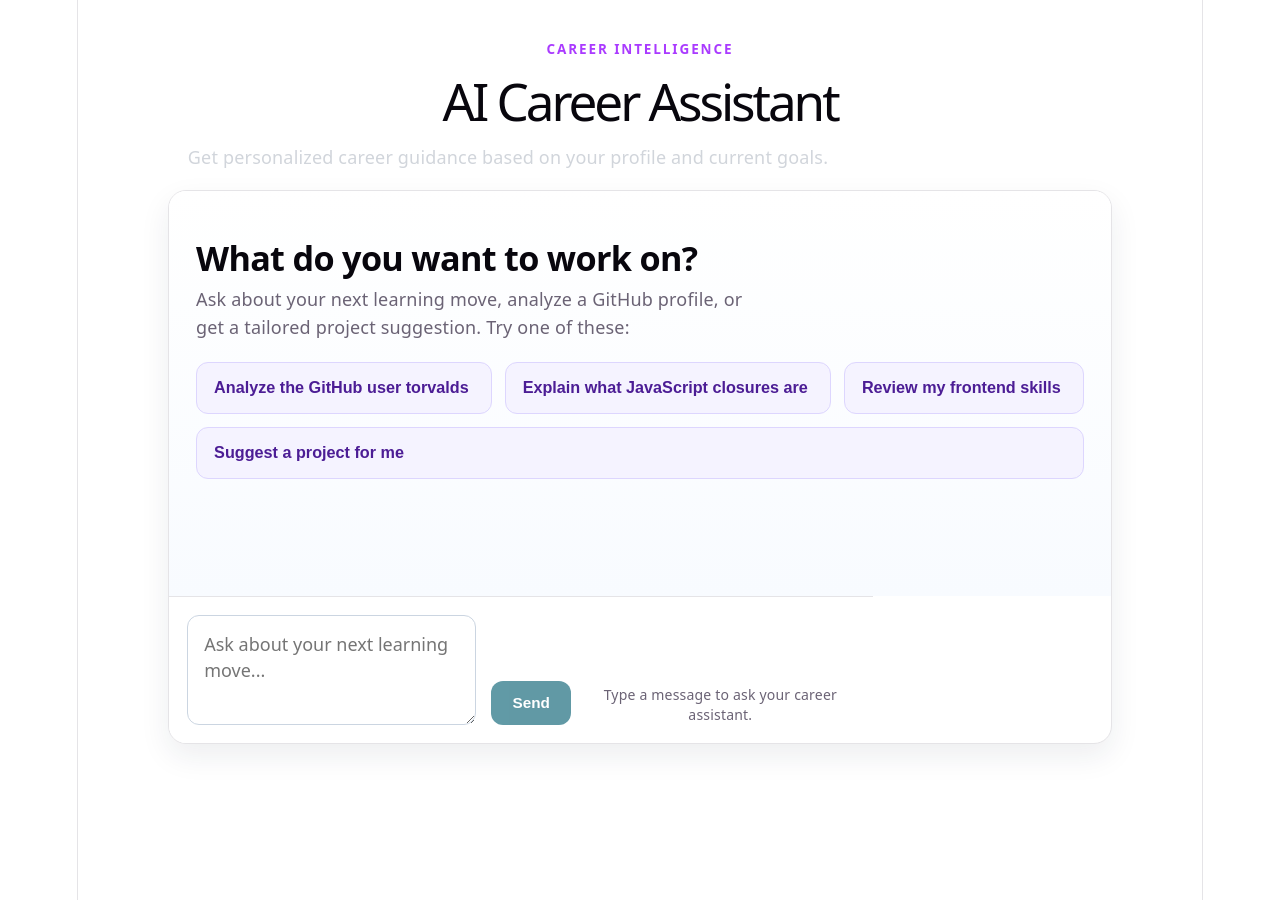
Scenario: AIChat — ChatMessage › renders a user message with its visible content (Test 1)
The width and height of the screenshot is (1280, 900).
In the text box named "Message to AI Career Assistant": (332, 670) [187,615,476,725], type "Hello there"
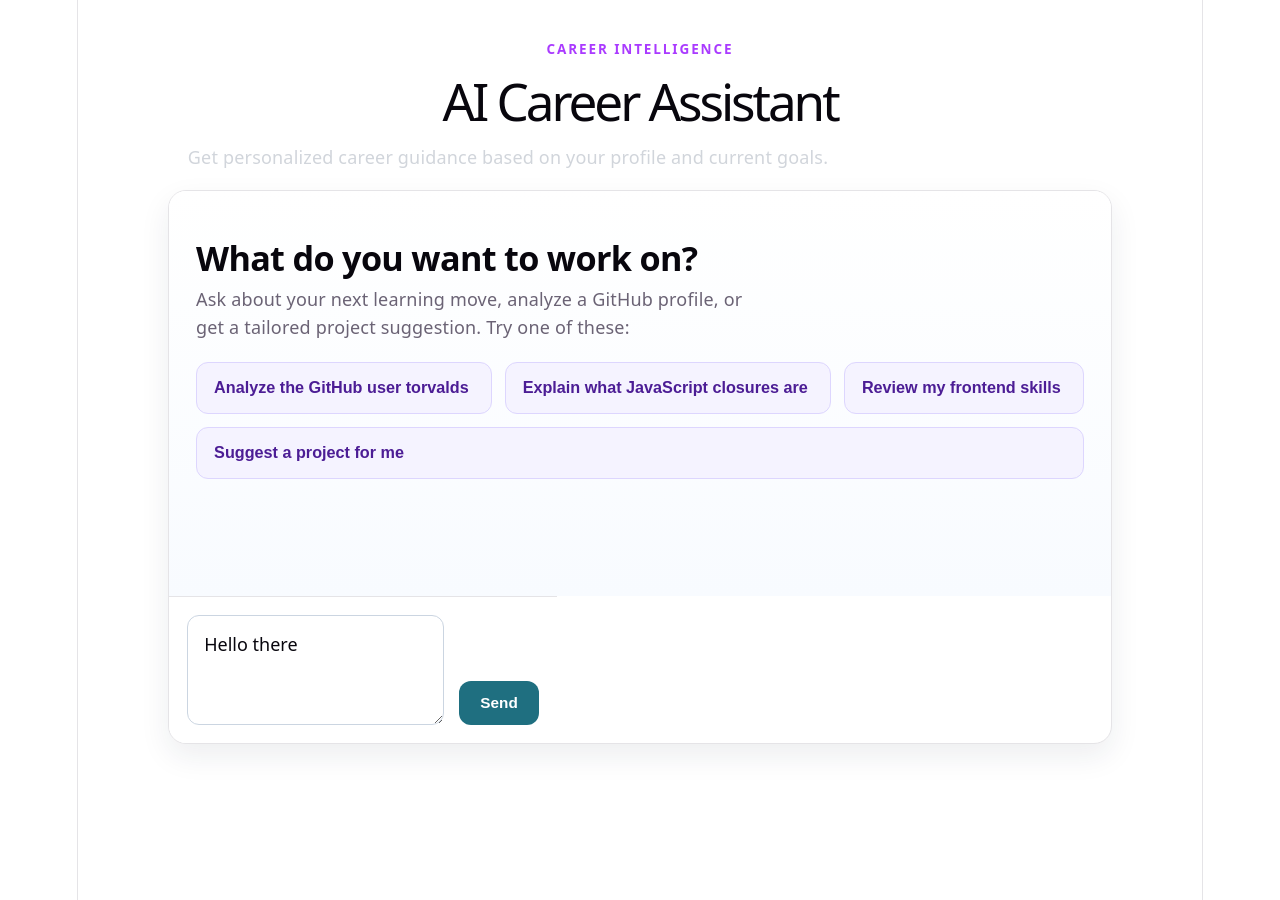
Click the button "Send": (499, 703) [459,681,539,725]
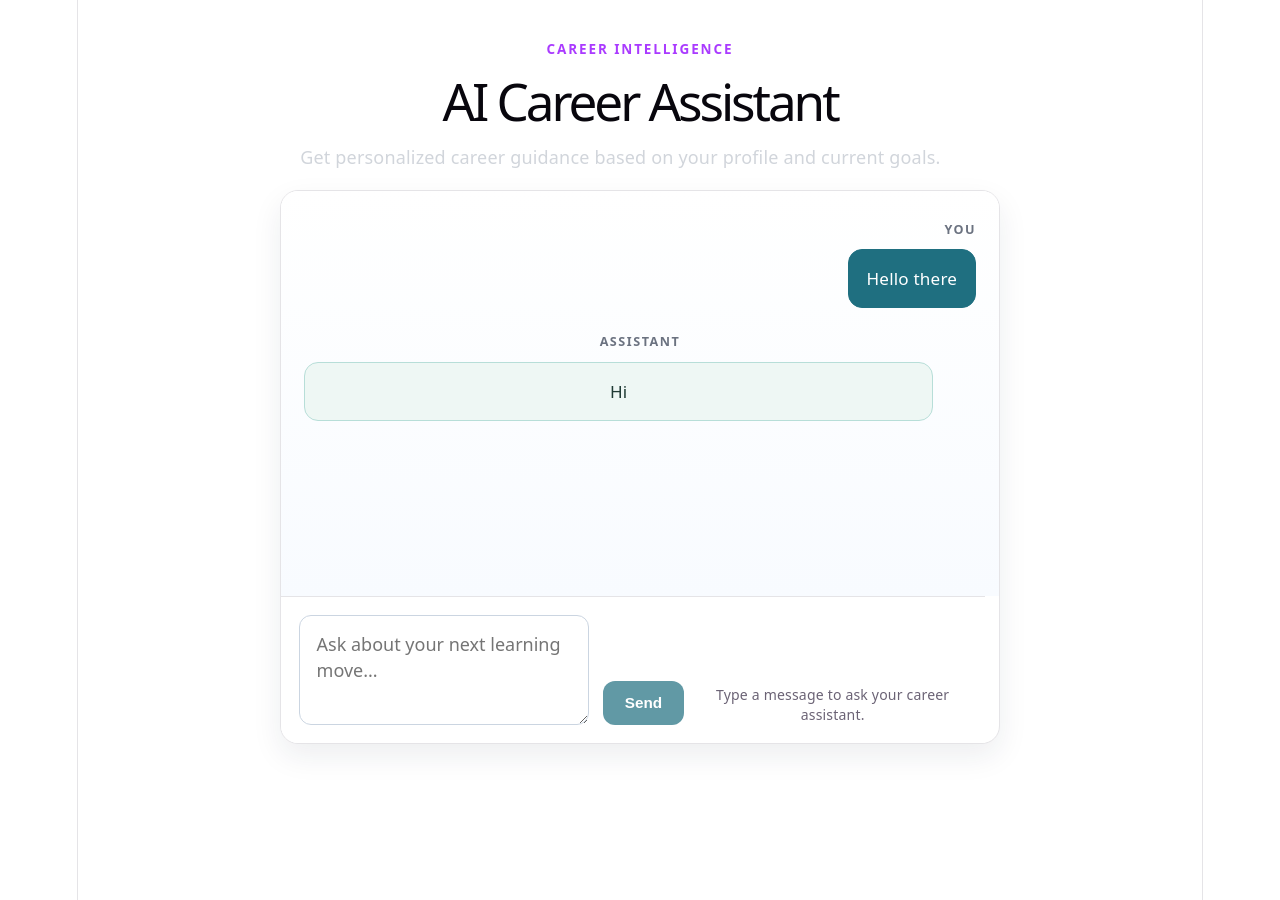
Result: the text "Hello there" is shown at [848,249,976,308]
